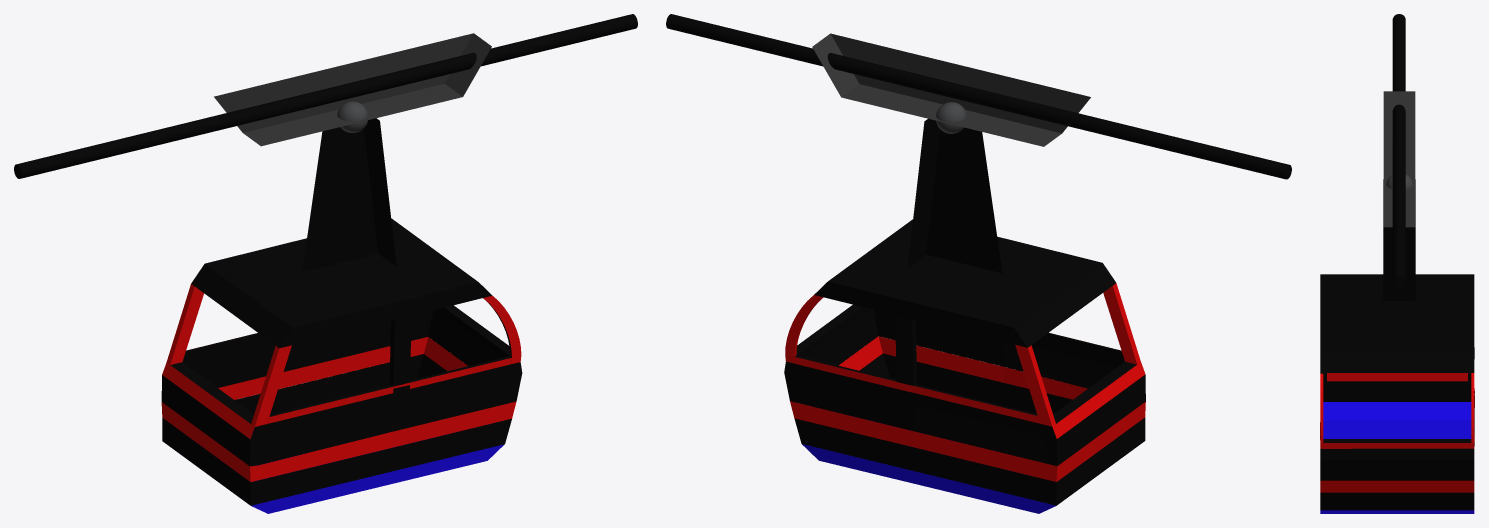
File: gondola.glb
3 renders of one model, left to right at view 1: azimuth 30°, elevation 25°; view 2: azimuth 150°, elevation 25°; view 3: azimuth 270°, elevation 25°, orthographic. The views are drawn at different scales.
Visible parts, largest first — view 1: Plane.001_Material.016_0, Cube.001_Material.009_0, Plane.002_Material.013_0, Cube.001_Material.010_0, Sphere_Material.015_0; view 2: Plane.001_Material.016_0, Cube.001_Material.009_0, Plane.002_Material.013_0, Cube.001_Material.010_0, Sphere_Material.015_0; view 3: Plane.001_Material.016_0, Cube.001_Material.010_0, Cube.001_Material.009_0, Plane.002_Material.013_0.
Boxes of the visible parts, bbox=[...] form: Plane.001_Material.016_0: bbox=[14, 14, 637, 505]; Cube.001_Material.009_0: bbox=[161, 284, 521, 481]; Plane.002_Material.013_0: bbox=[214, 33, 491, 146]; Cube.001_Material.010_0: bbox=[251, 444, 504, 513]; Sphere_Material.015_0: bbox=[337, 101, 368, 132]; Plane.001_Material.016_0: bbox=[666, 14, 1291, 505]; Cube.001_Material.009_0: bbox=[785, 283, 1145, 481]; Plane.002_Material.013_0: bbox=[812, 33, 1090, 146]; Cube.001_Material.010_0: bbox=[802, 444, 1056, 513]; Sphere_Material.015_0: bbox=[936, 102, 967, 133]; Plane.001_Material.016_0: bbox=[1320, 14, 1474, 510]; Cube.001_Material.010_0: bbox=[1320, 402, 1474, 513]; Cube.001_Material.009_0: bbox=[1320, 373, 1474, 492]; Plane.002_Material.013_0: bbox=[1383, 91, 1415, 227].
Bounding box in the file's own units: 2.87 × 1.68 × 0.7158.
